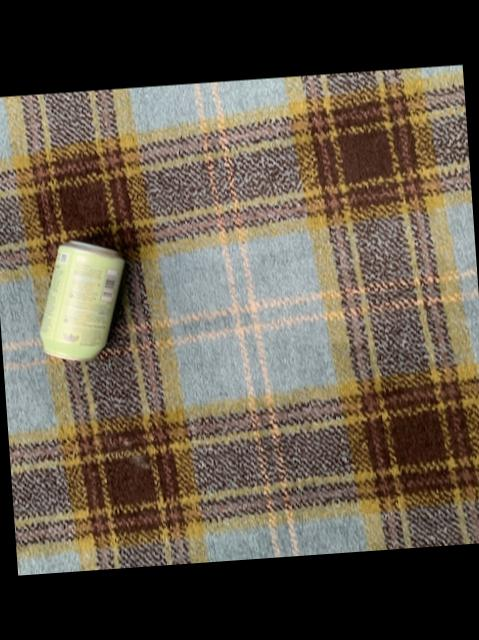metal: (38, 240, 122, 359)
